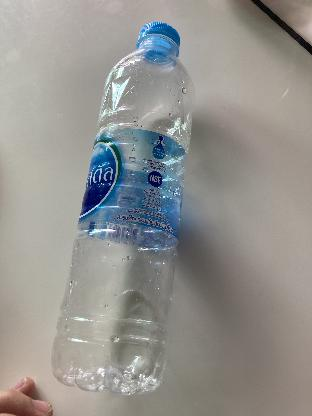Plastic Bottle: (47, 15, 197, 404)
